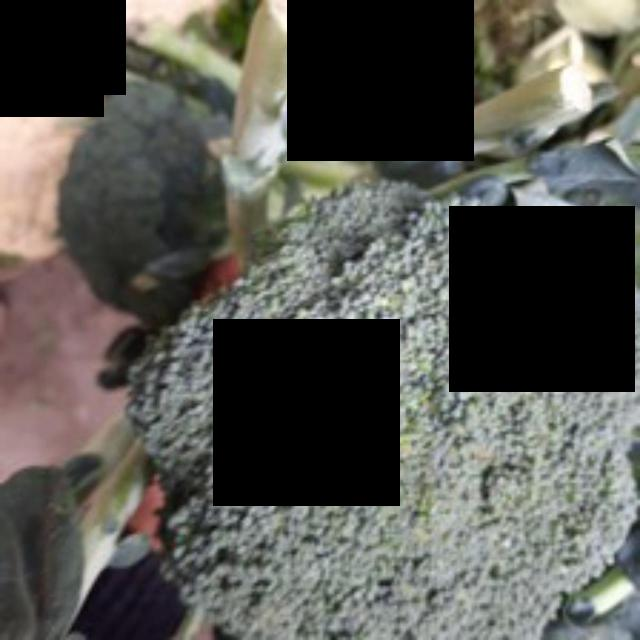broccoli: (123, 177, 637, 637)
